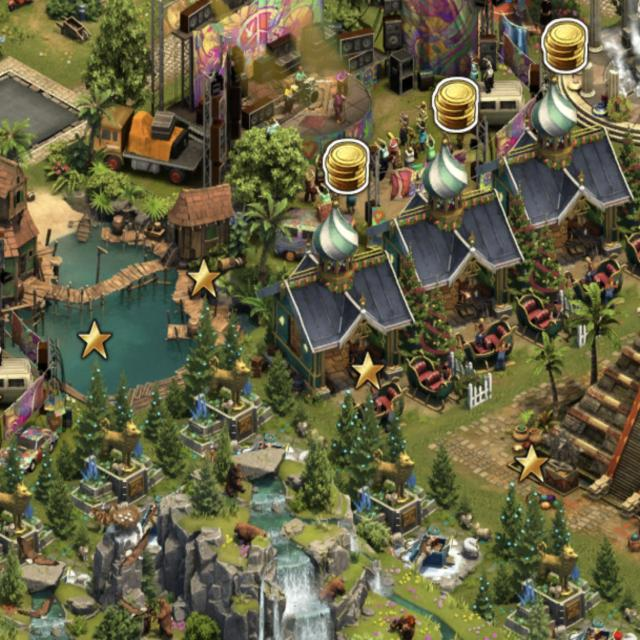coin: (535, 9, 598, 77), (317, 135, 380, 198), (429, 70, 484, 138)
star: (73, 318, 119, 364), (349, 350, 390, 396), (184, 259, 227, 300), (513, 443, 552, 486)
